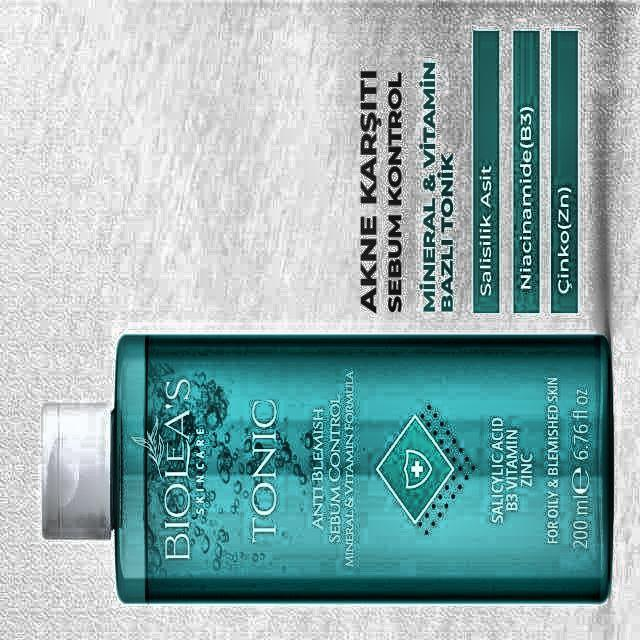plastic: (44, 335, 612, 602)
